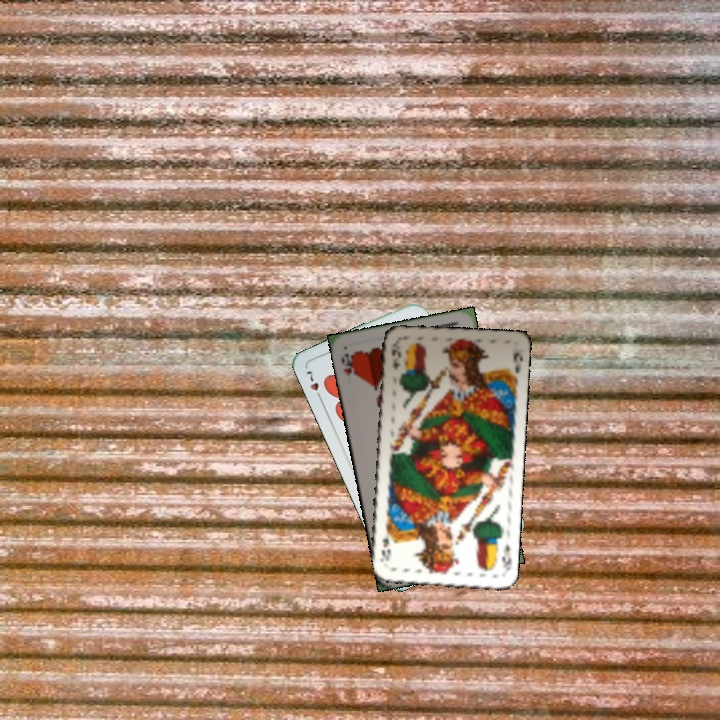EK: (498, 540, 514, 575), (387, 343, 403, 372)
H7: (302, 367, 325, 403)
HO: (337, 349, 359, 380)
